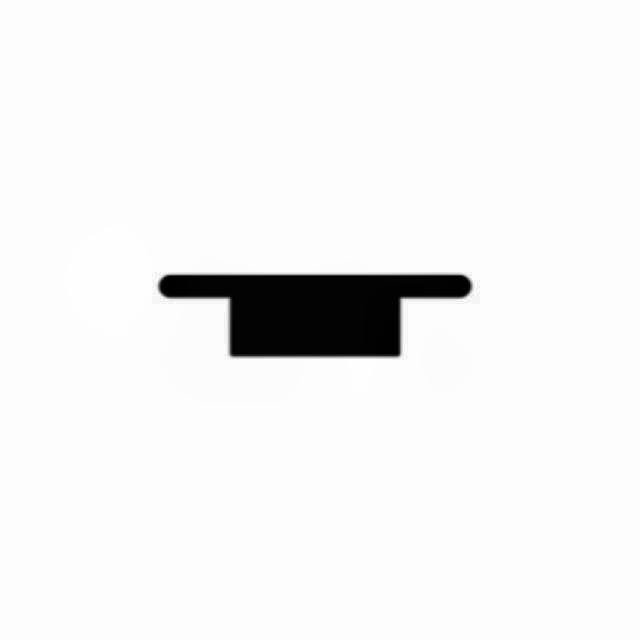Full-rest: (150, 258, 478, 369)
